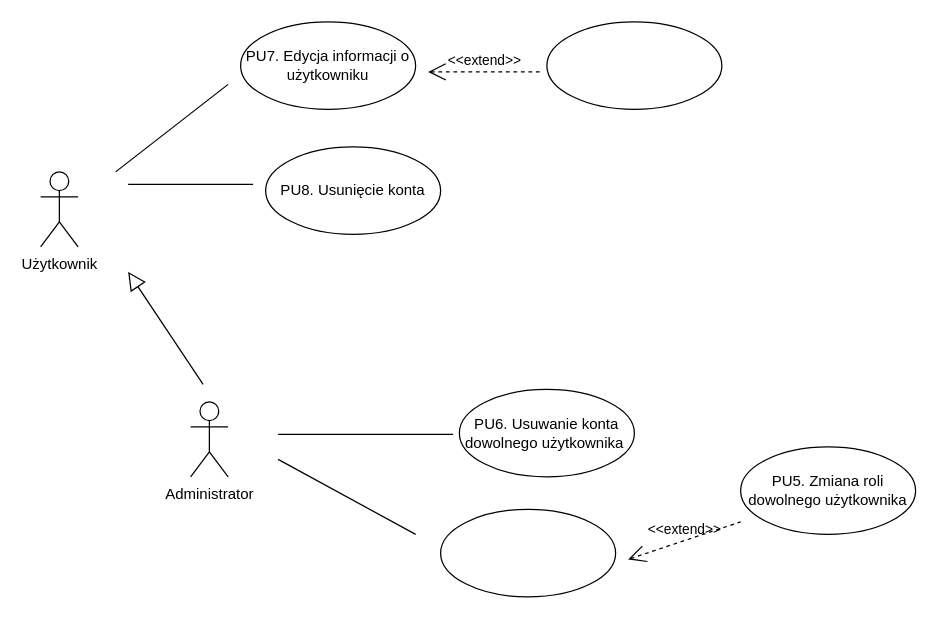
Some shapes in this 938 by 619 pixel diagram are drawn without their labels. Here are the shapes that lost their labels. From the top down, the centre of each, then its label:
At point (634, 65): "PU9. Zmiana hasła".
At point (527, 552): "PU4. Edycja danych dowolnego użytownika".
